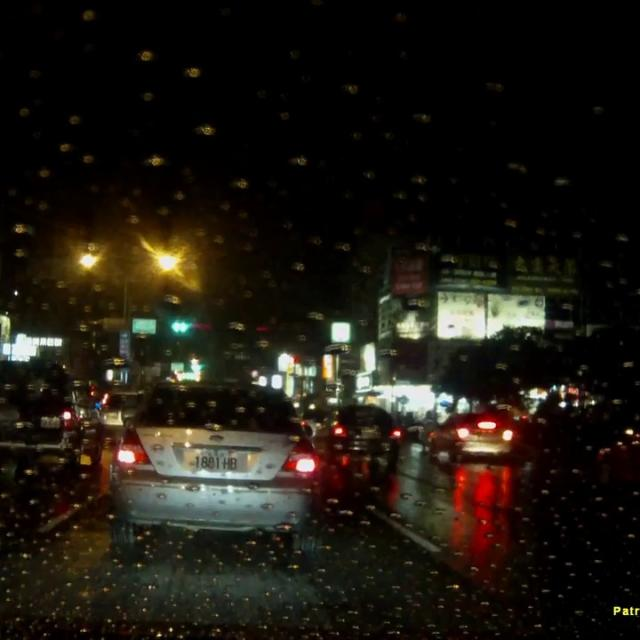Car: (105, 378, 316, 557), (0, 361, 101, 466), (300, 402, 402, 464), (424, 408, 520, 463), (95, 388, 140, 434)
